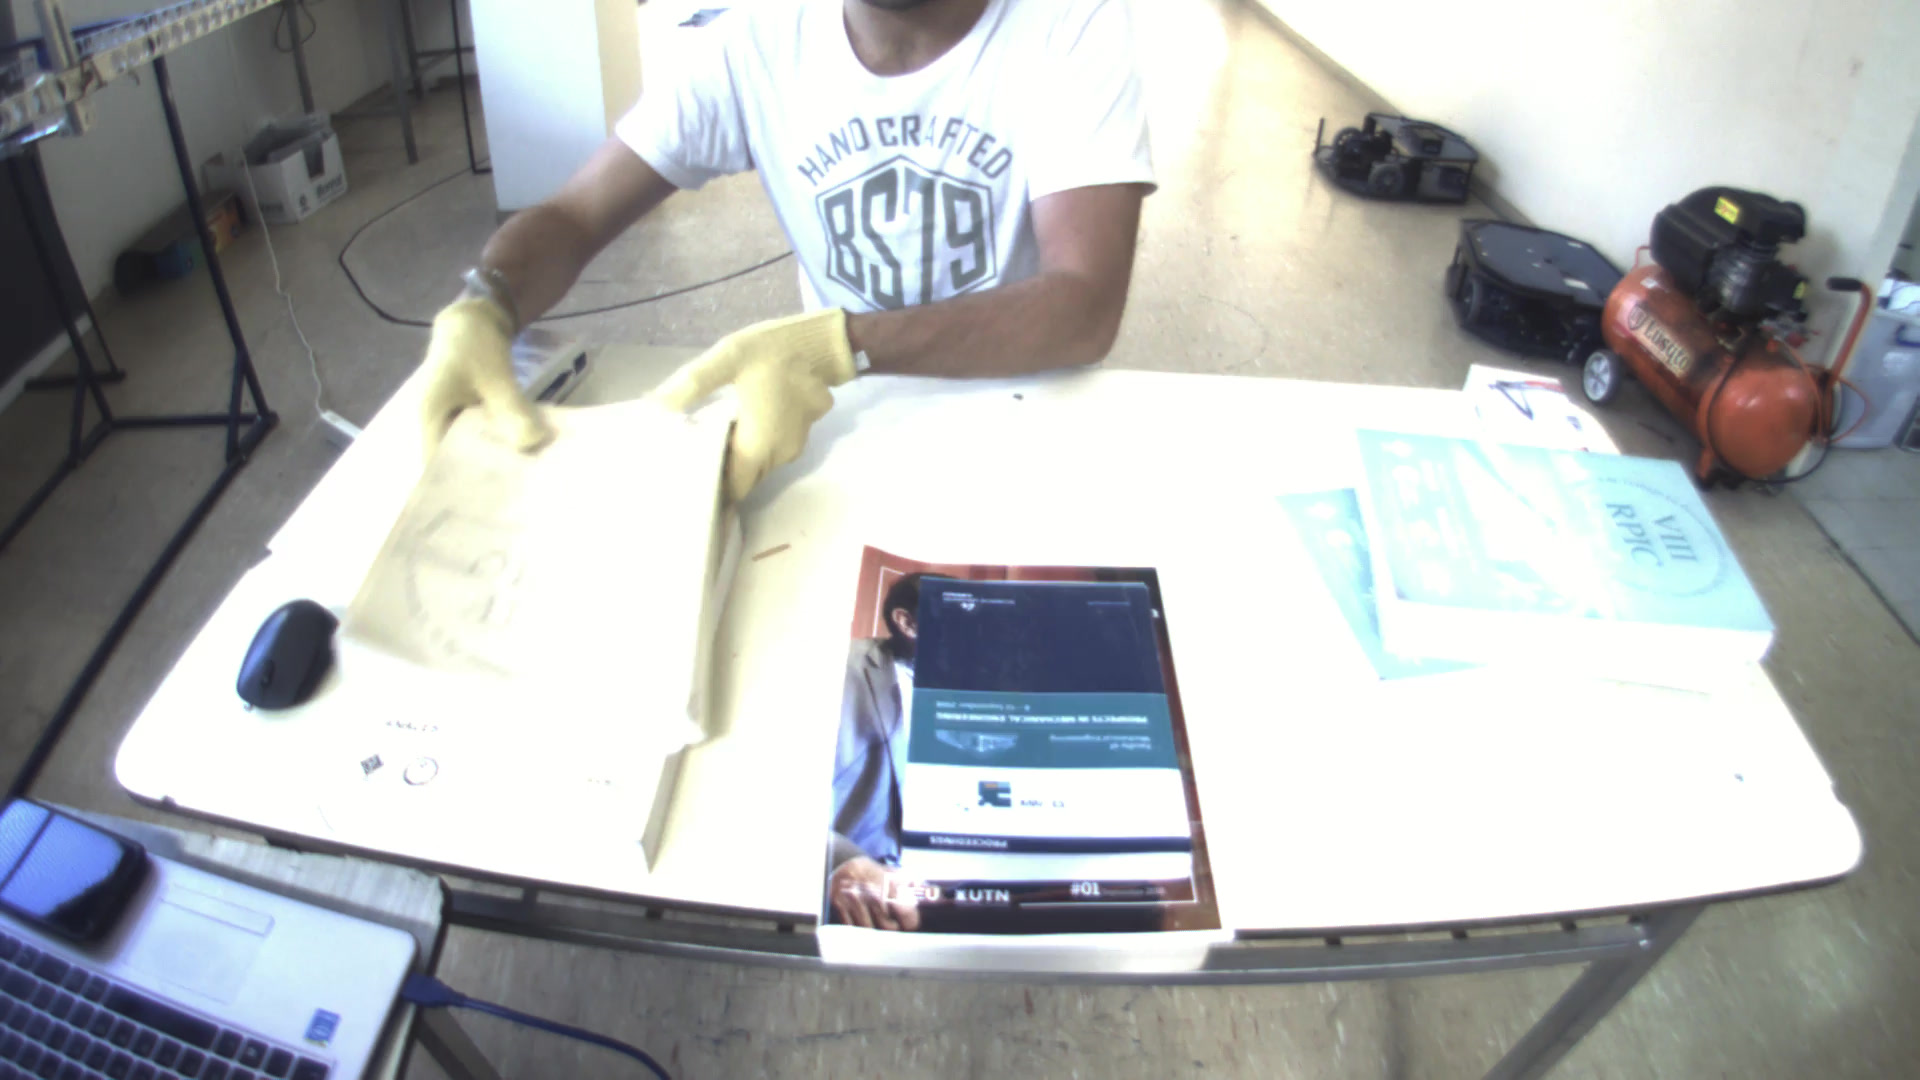hand: (653, 291, 860, 476), (400, 285, 556, 454)
